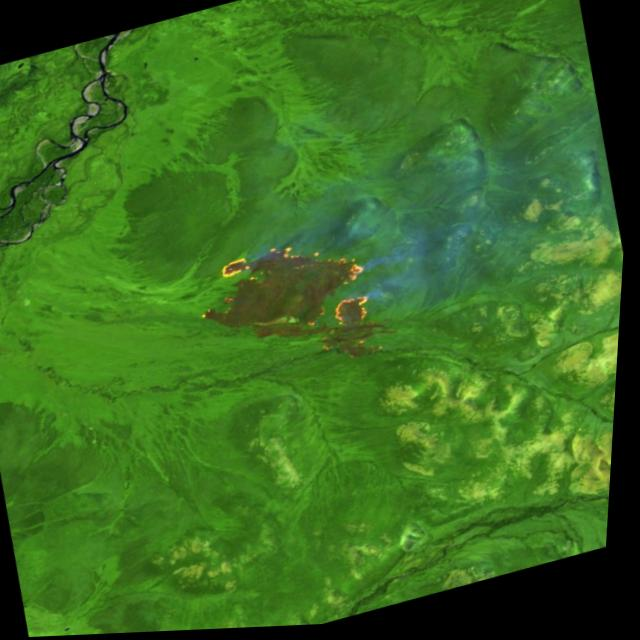fire: (188, 224, 388, 370)
